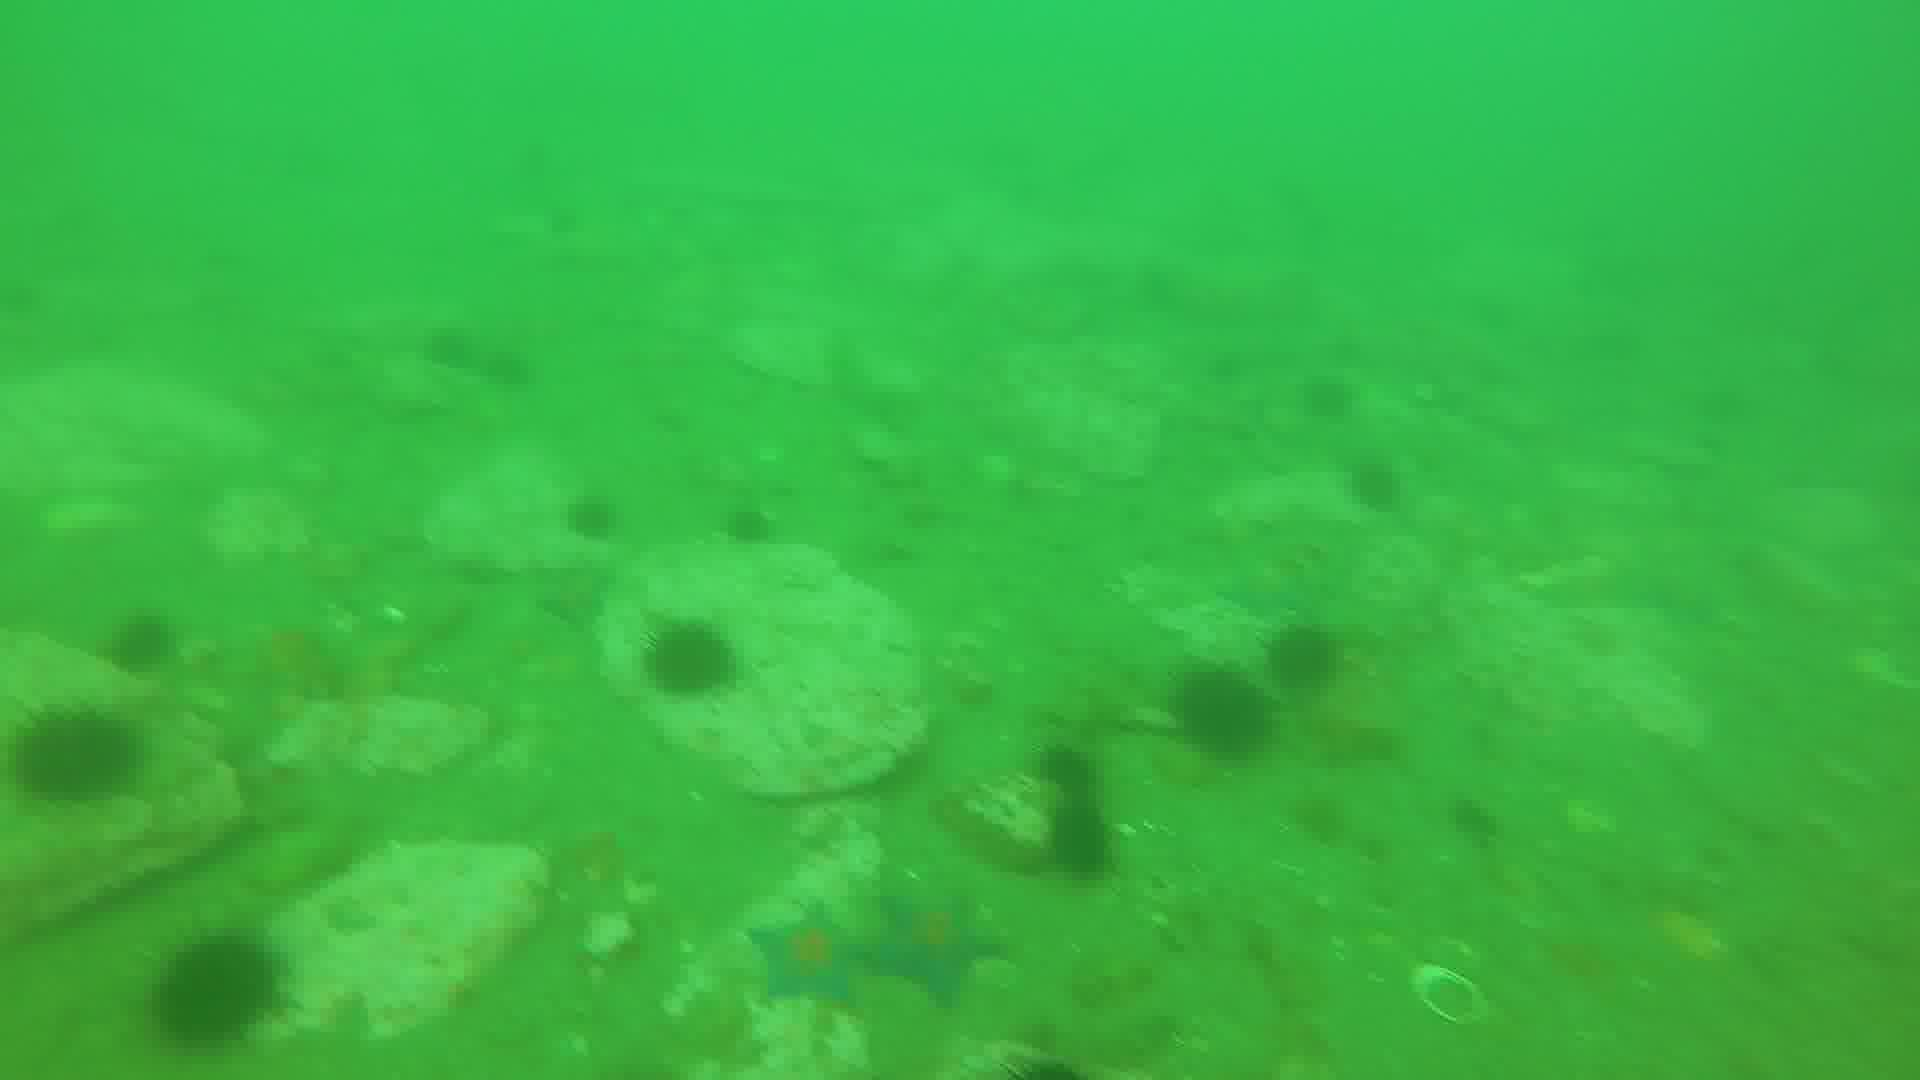echinus: (154, 934, 290, 1054), (11, 713, 157, 800), (1180, 666, 1278, 756), (636, 618, 742, 688), (96, 617, 177, 680), (1038, 740, 1108, 807), (1270, 628, 1348, 687), (1048, 806, 1116, 874), (1352, 458, 1410, 520), (415, 324, 481, 375), (567, 495, 616, 545), (727, 504, 771, 558), (487, 348, 538, 390), (1309, 377, 1356, 415)
starfish: (744, 905, 877, 1014), (870, 898, 1011, 1000), (1216, 568, 1313, 624)
